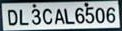character: (53, 8, 66, 24), (62, 8, 75, 24), (6, 9, 17, 26), (74, 7, 85, 24), (31, 8, 41, 25), (95, 7, 105, 24), (18, 9, 28, 25), (42, 8, 52, 24), (106, 6, 115, 23), (85, 6, 93, 23)
